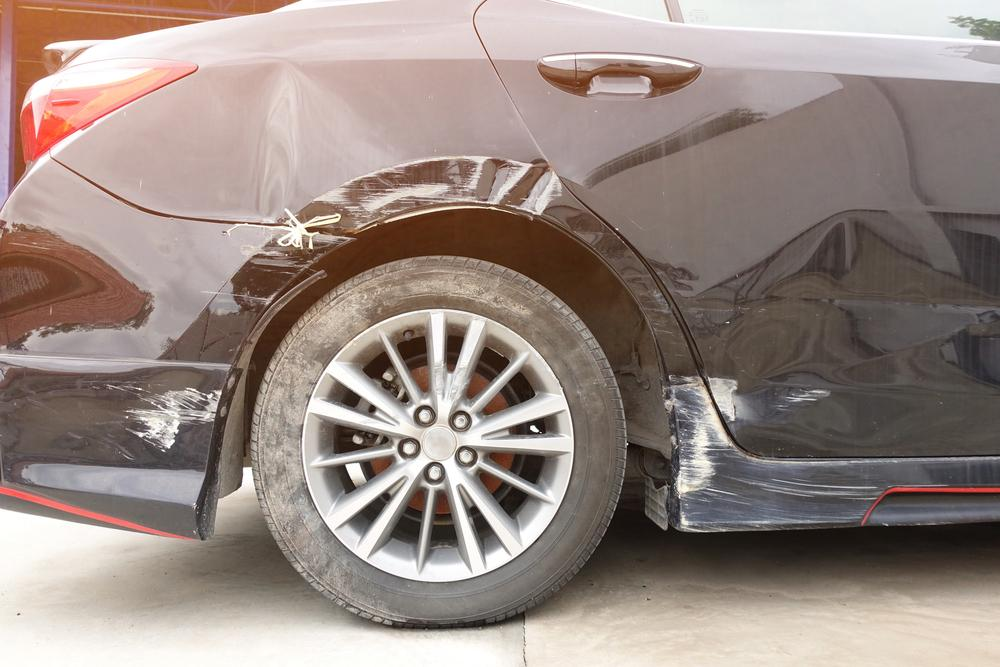dent: (719, 218, 990, 433), (226, 60, 309, 220)
scratch: (663, 372, 885, 532), (313, 154, 563, 233), (107, 378, 220, 453), (707, 375, 742, 428)
